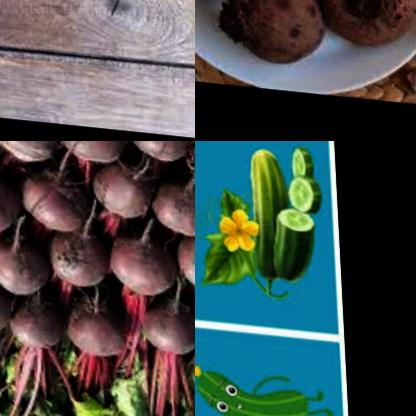beet: (216, 0, 323, 66), (80, 144, 157, 225), (14, 153, 87, 233), (102, 215, 173, 294), (36, 215, 112, 287), (127, 278, 195, 353), (312, 0, 416, 49), (0, 284, 66, 355), (60, 292, 124, 359), (144, 154, 195, 235), (0, 223, 46, 305), (166, 215, 195, 296), (50, 141, 127, 163), (127, 141, 192, 164), (0, 158, 18, 240)
cucumber: (240, 142, 290, 284), (266, 193, 322, 289), (278, 141, 321, 212)
garlic: (393, 53, 416, 95)
